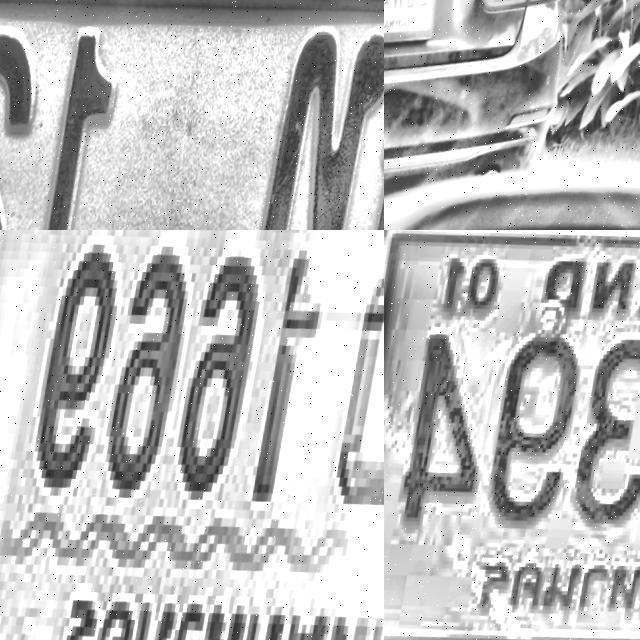license-plate: (0, 230, 384, 640), (384, 230, 640, 640), (0, 0, 384, 230), (384, 0, 445, 60)
